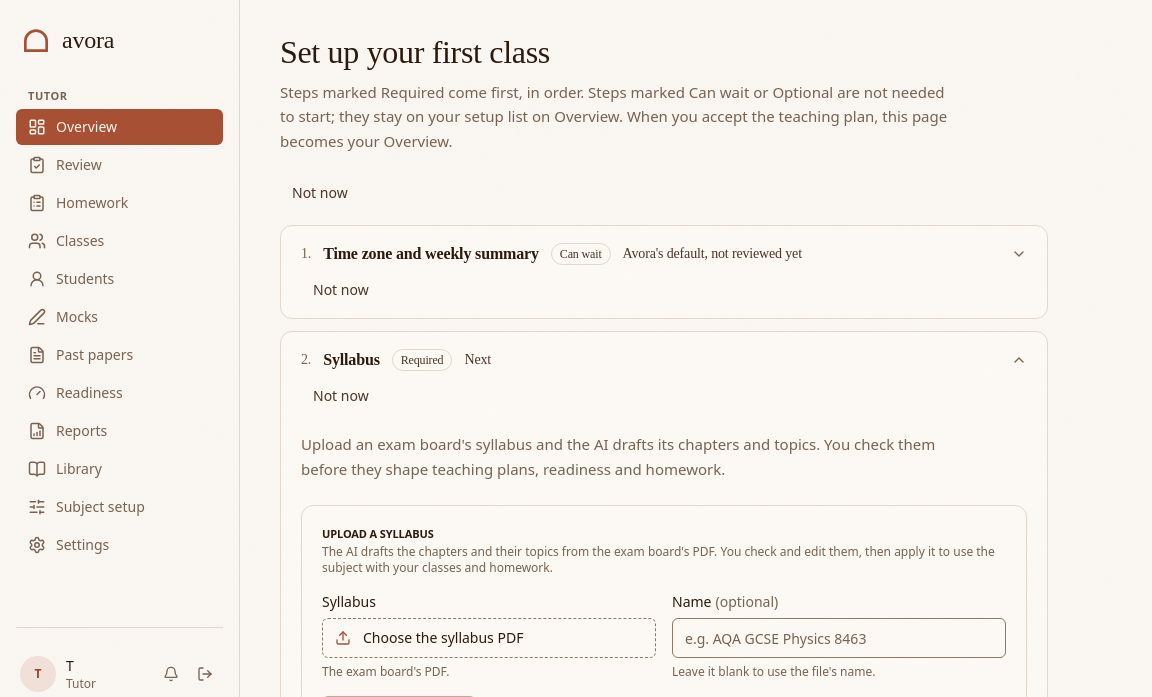
Scenario: Not now on the whole guide shows the Overview, and Show hidden brings the guide back
This screenshot has width=1152, height=697.
Click the button with aria-label "Not now: setting up your first class": (320,193) top-left (280, 177), bottom-right (360, 209)
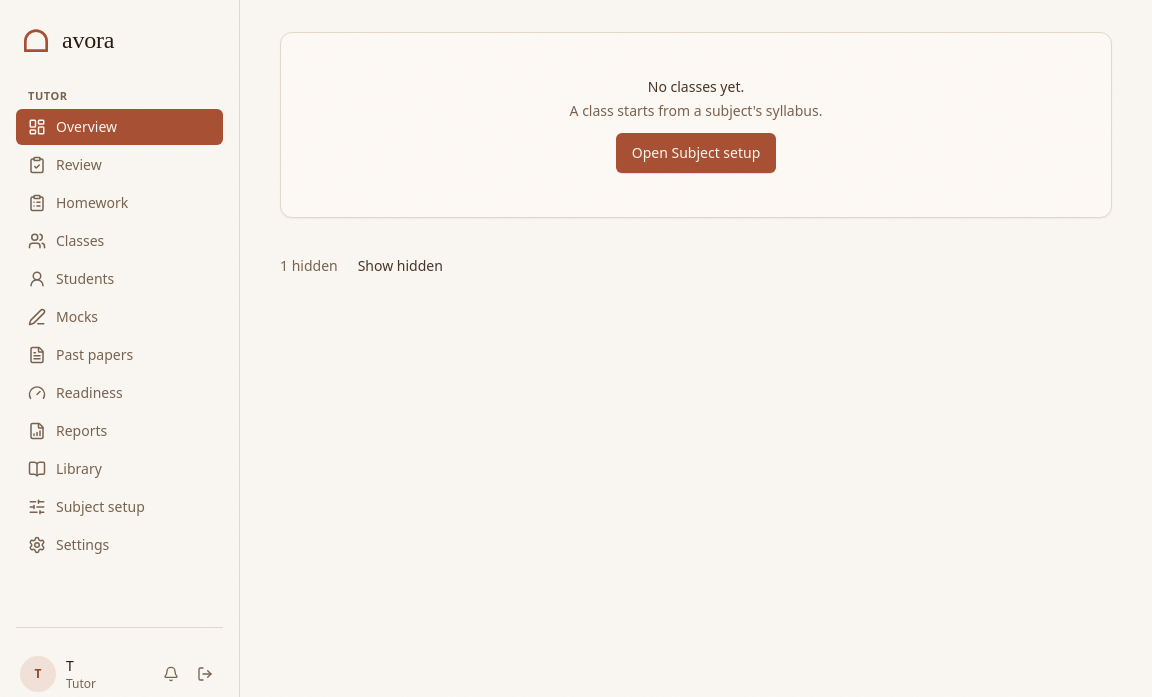
Now the text "No classes yet." is shown, box top-left (648, 77), bottom-right (744, 96)
Click the button "Show hidden": (400,266) top-left (346, 250), bottom-right (455, 282)
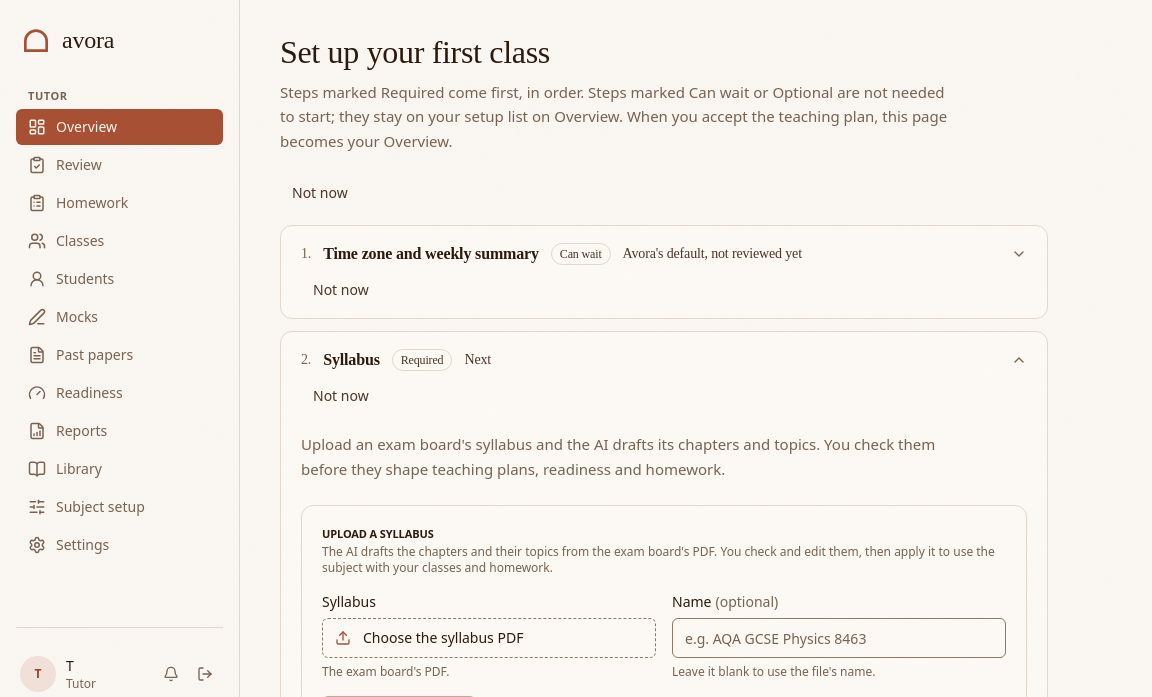
Now the heading "Set up your first class" is shown, box top-left (280, 34), bottom-right (550, 70)
